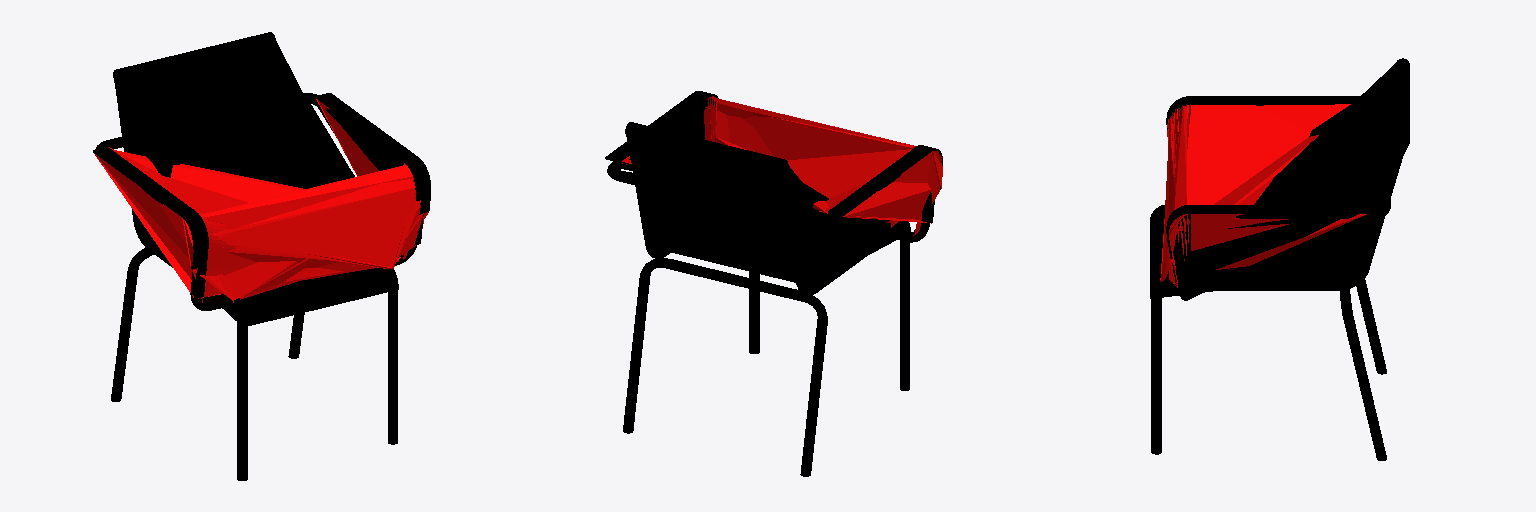
File: Chairs.obj
3 renders of one model, left to right at view 1: azimuth 30°, elevation 25°; view 2: azimuth 150°, elevation 25°; view 3: azimuth 270°, elevation 25°, orthographic.
Parts seen in each view (by area): view 1: Chair_2, Chair_1; view 2: Chair_2, Chair_1; view 3: Chair_2, Chair_1.
Part boxes in pixels (bbox=[...]): Chair_2: bbox=[94, 41, 428, 320]; Chair_1: bbox=[93, 32, 430, 480]; Chair_2: bbox=[615, 96, 942, 285]; Chair_1: bbox=[605, 91, 942, 476]; Chair_2: bbox=[1151, 63, 1409, 299]; Chair_1: bbox=[1150, 58, 1409, 460].
Bounding box in the file's own units: 21.38 × 27.49 × 20.32.